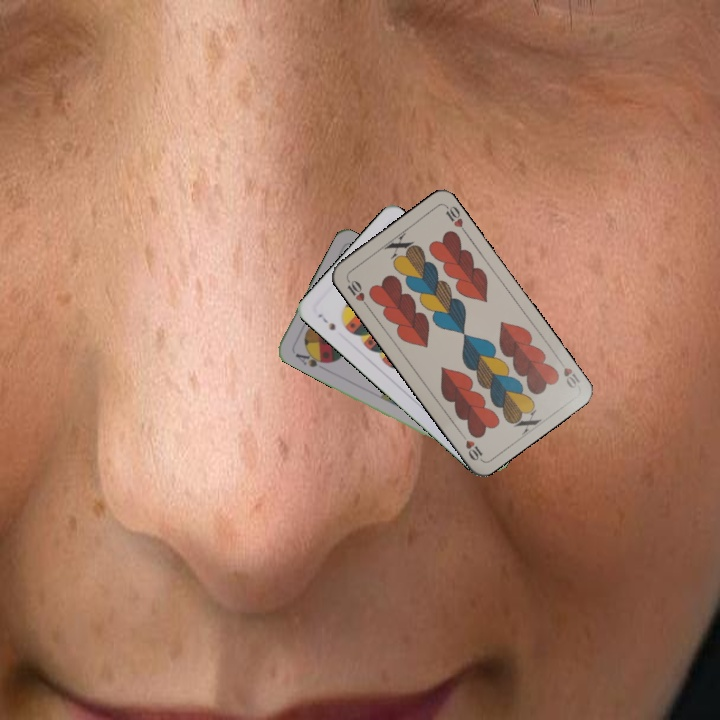H10: (554, 354, 583, 391), (343, 275, 371, 310)
S7: (314, 310, 338, 333)
SA: (291, 347, 330, 370)
